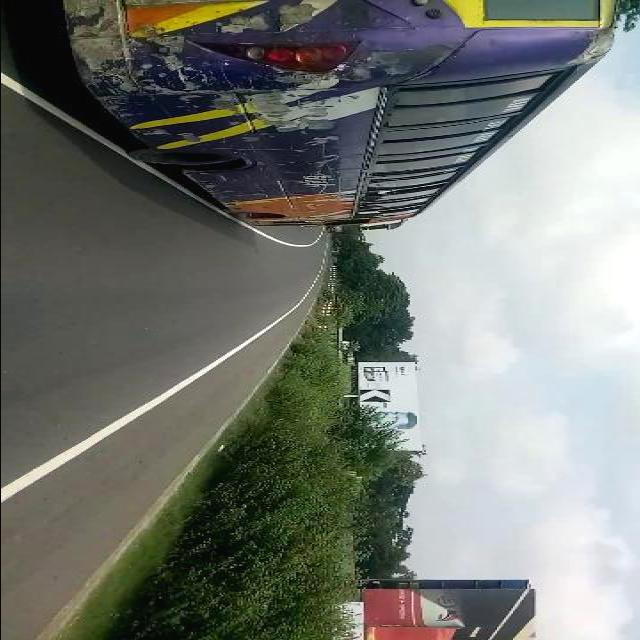bus: (59, 1, 618, 231)
truck: (329, 226, 345, 234)
